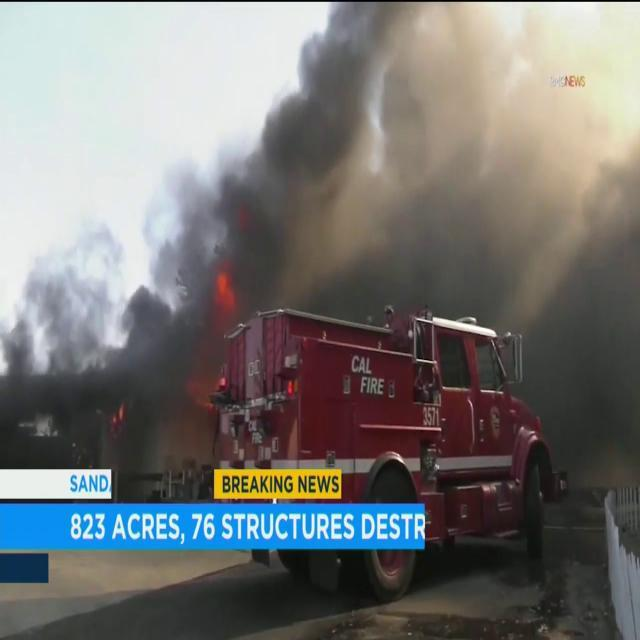Smoke: (106, 2, 640, 340), (0, 212, 132, 388)
